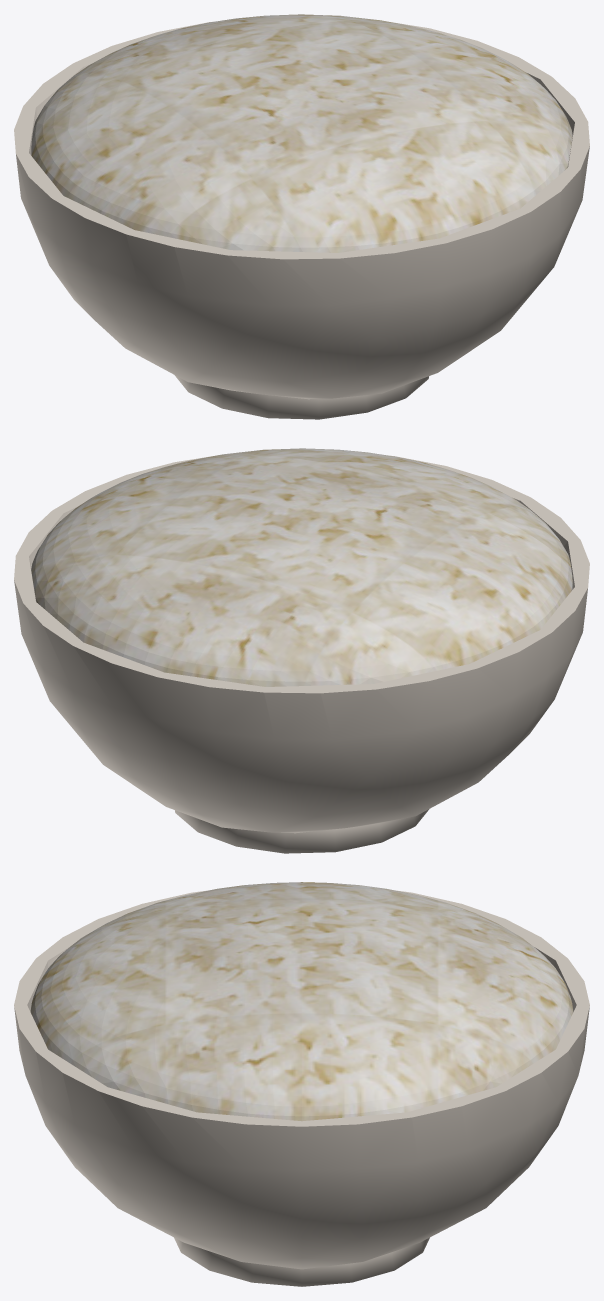
The model's file is bolDeRiz.obj.
The picture shows the model from 3 angles, top to bottom: view 1: azimuth 30°, elevation 25°; view 2: azimuth 150°, elevation 25°; view 3: azimuth 270°, elevation 25°; orthographic projection.
Parts seen in each view (by area): view 1: Sphere_1, Boolean_3, Cylinder_1; view 2: Sphere_1, Boolean_3, Cylinder_1; view 3: Sphere_1, Boolean_3, Cylinder_1.
Boxes of the visible parts, left/top/right/bottom form: Sphere_1: left=31, top=14, right=572, bottom=252; Boolean_3: left=14, top=21, right=589, bottom=399; Cylinder_1: left=174, top=375, right=428, bottom=419; Sphere_1: left=31, top=448, right=572, bottom=686; Boolean_3: left=14, top=455, right=589, bottom=833; Cylinder_1: left=175, top=809, right=429, bottom=853; Sphere_1: left=30, top=882, right=573, bottom=1121; Boolean_3: left=14, top=890, right=589, bottom=1269; Cylinder_1: left=174, top=1237, right=429, bottom=1286.
Size of the model in its own units: 11 by 6.01 by 11.
2 materials, 1 textured.
